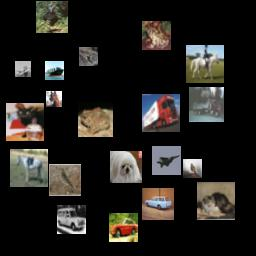airplane: (152, 146, 181, 175), (15, 61, 31, 77)
automobile: (142, 188, 174, 220), (57, 205, 86, 234), (109, 213, 138, 242)
bird: (36, 1, 68, 33), (49, 164, 81, 196), (183, 159, 202, 178)
cat: (197, 182, 235, 220), (6, 103, 44, 141)
dog: (110, 151, 142, 183)
frog: (78, 102, 113, 137), (142, 21, 171, 50), (79, 47, 98, 66)
ship: (45, 61, 64, 80)
truck: (142, 94, 180, 132), (189, 87, 224, 122)
